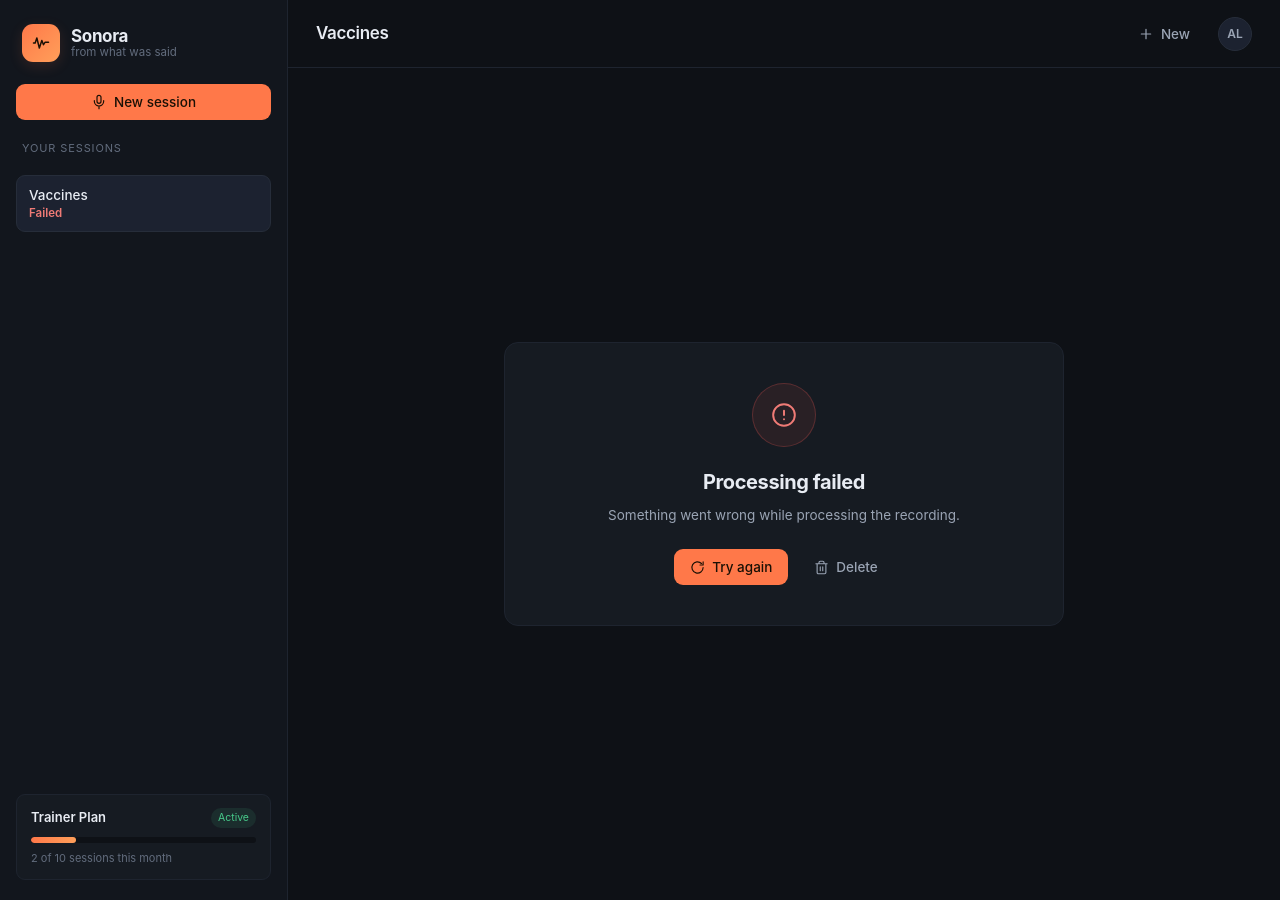
Test: App › reports failed actions in a dismissible banner
The width and height of the screenshot is (1280, 900).
What coordinates should you click on to do the following:
click the button "Try again"
I would click on:
 (731, 567)
Its box is top-left (674, 549), bottom-right (788, 585).
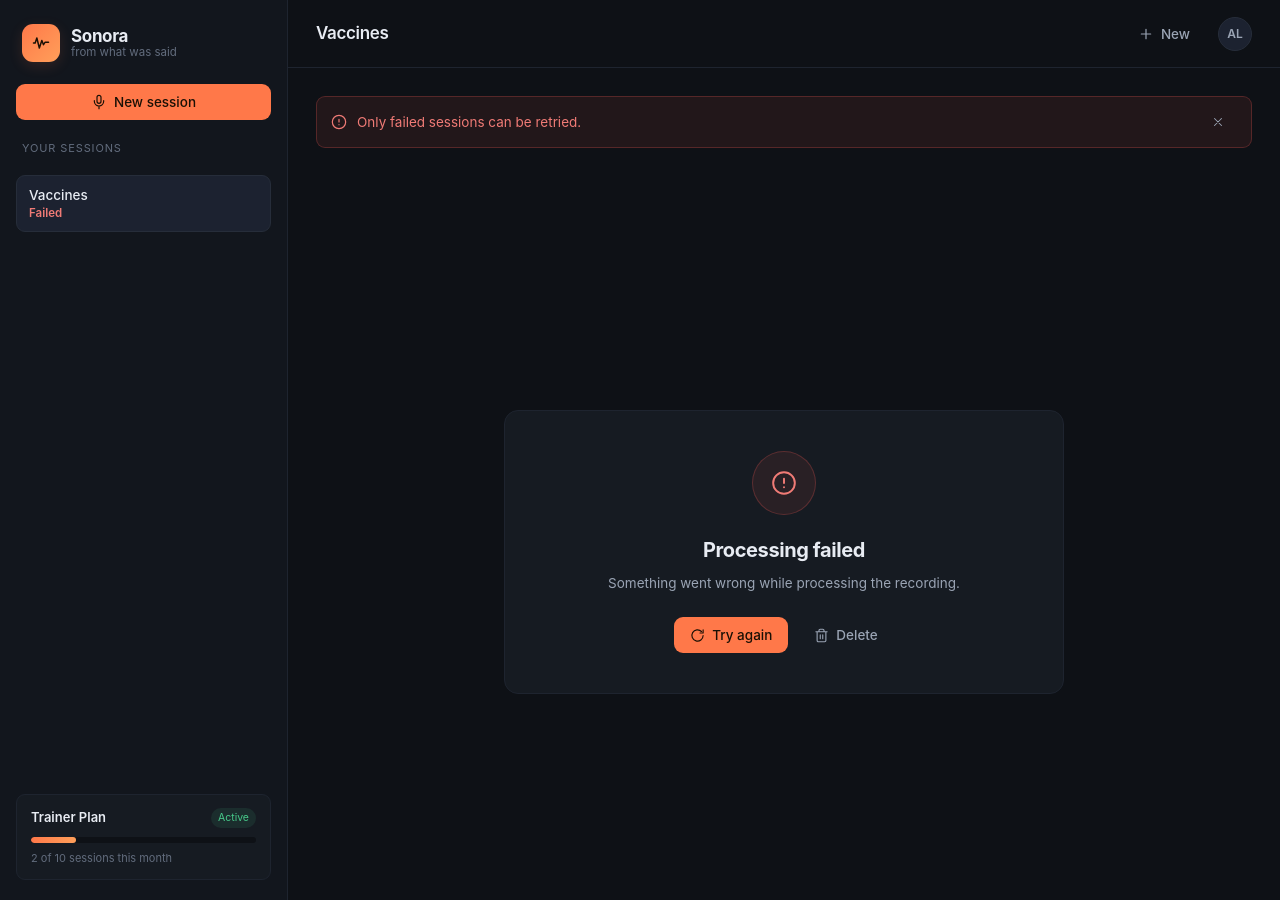
Result: the message reads "Only failed sessions can be retried." at top-left (357, 114), bottom-right (581, 130)
What coordinates should you click on to do the following:
click the button named "Dismiss"
I would click on:
 (1218, 122)
Its box is top-left (1199, 107), bottom-right (1237, 137).
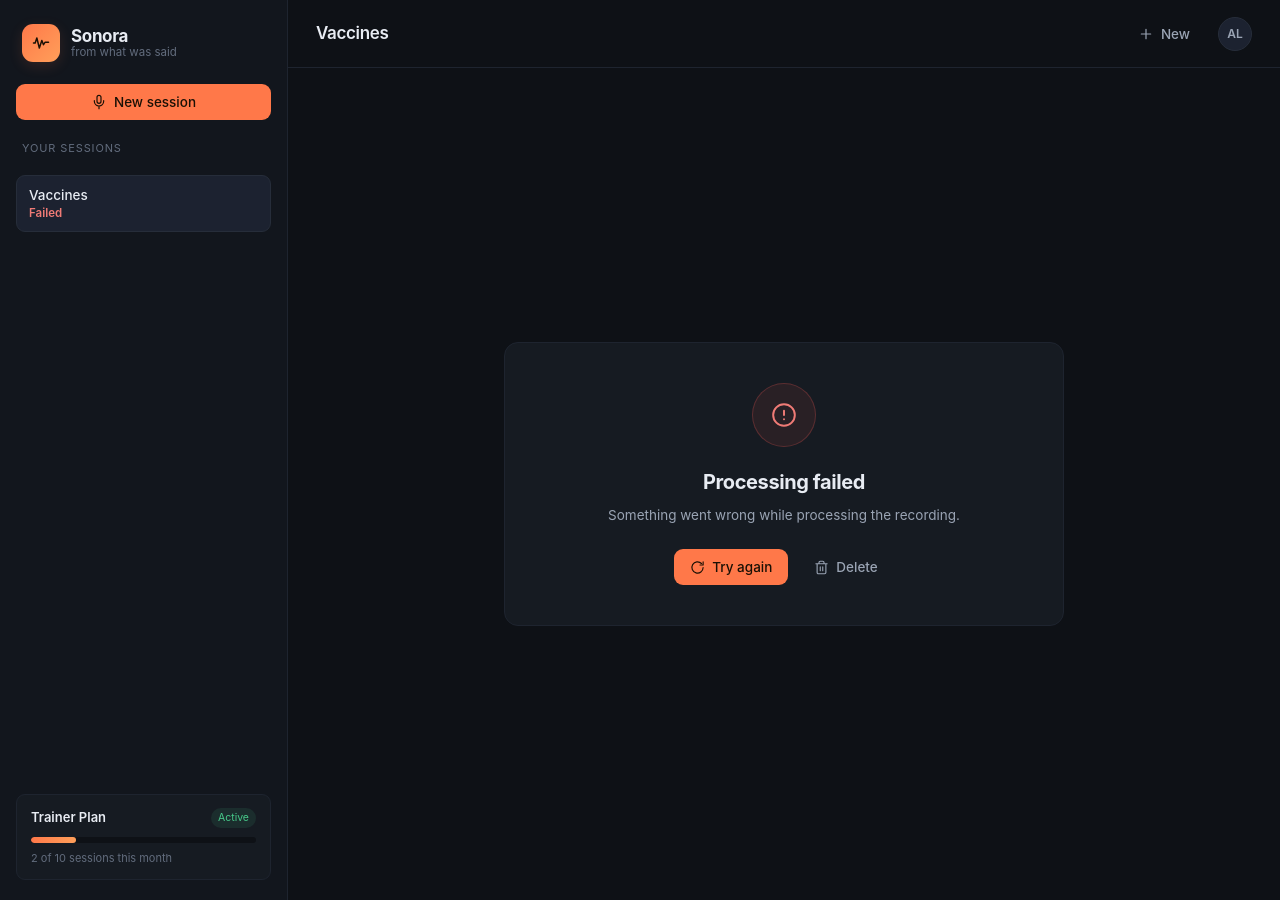
Result: the message "Only failed sessions can be retried." is gone
